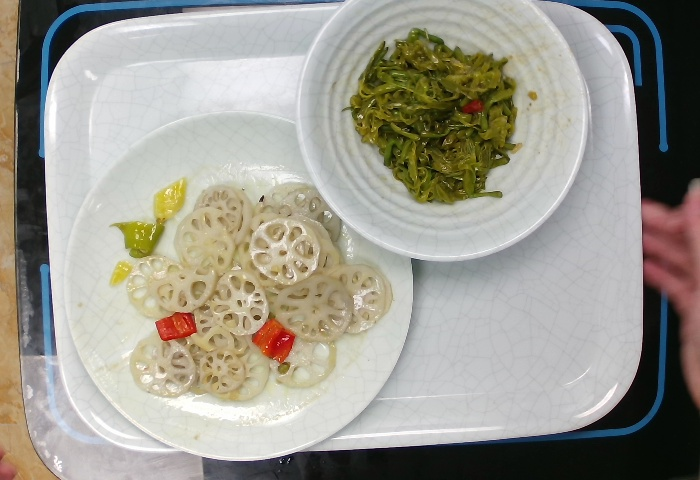JYsf-Da_Yuan_Pan: (64, 101, 419, 464)
JYsf-Xiao_Tang_Wan: (297, 1, 587, 262)
